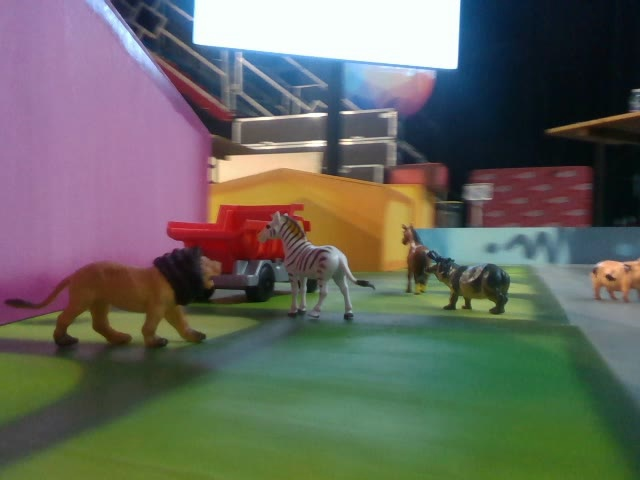toy: (4, 242, 230, 353), (257, 211, 380, 324)
